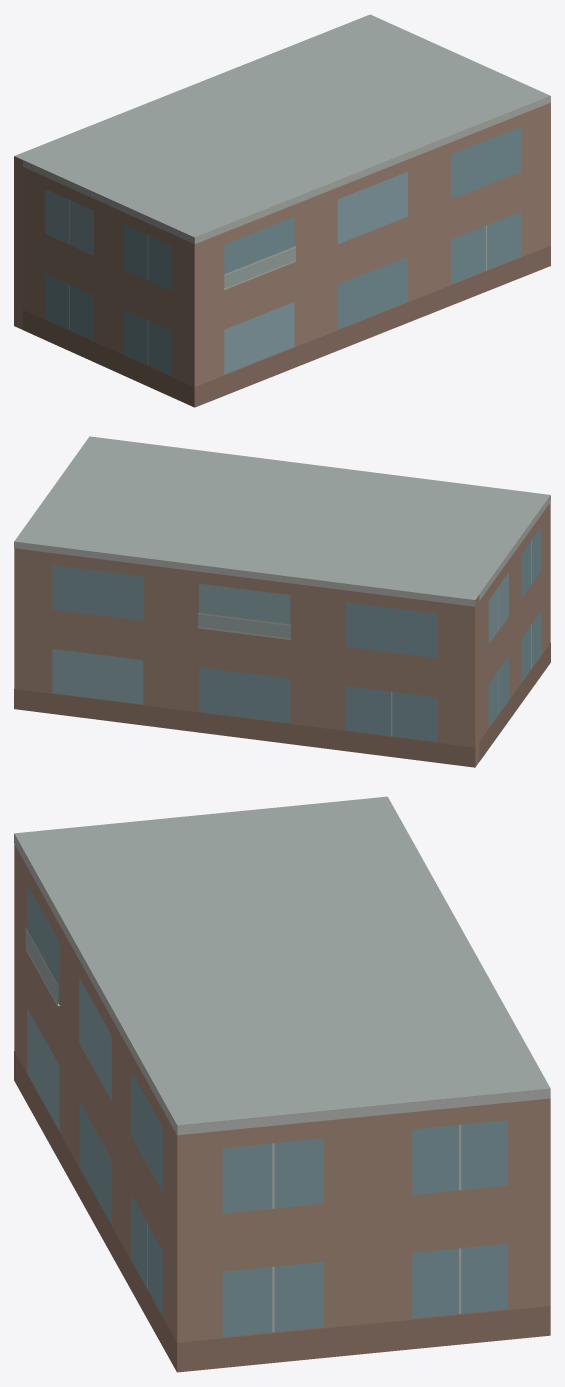
The model's file is survey-upis-32700502.glb.
3 views of the same model, one above another, from view 1: azimuth 30°, elevation 25°; view 2: azimuth 150°, elevation 25°; view 3: azimuth 270°, elevation 25° (orthographic). The views are drawn at different scales.
Visible parts, largest first — view 1: survey-upis-32700502.tmp; view 2: survey-upis-32700502.tmp; view 3: survey-upis-32700502.tmp.
Part boxes in pixels (x1,y1,x2,y2): survey-upis-32700502.tmp: (14, 14, 550, 407); survey-upis-32700502.tmp: (14, 436, 550, 767); survey-upis-32700502.tmp: (14, 796, 550, 1372).
Bounding box in the file's own units: 17.43 × 6.1 × 12.02.
